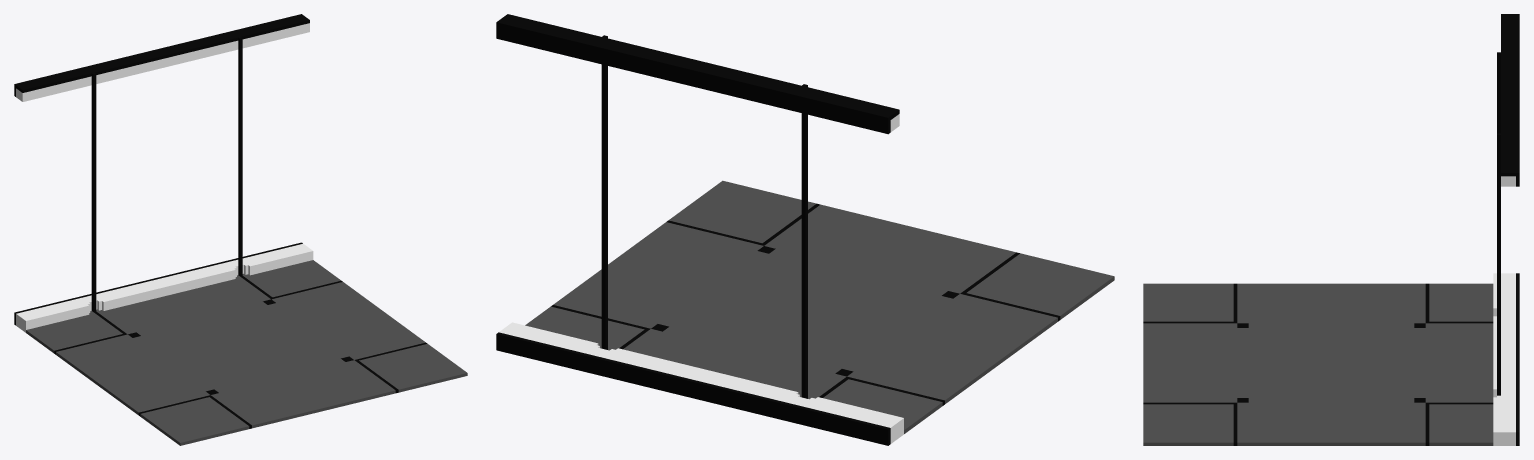
The model's file is Wall Window.obj.
The picture shows the model from 3 angles, left to right: view 1: azimuth 30°, elevation 25°; view 2: azimuth 150°, elevation 25°; view 3: azimuth 270°, elevation 25°; orthographic projection. The views are drawn at different scales.
Bounding box in the file's own units: 10 × 8 × 10.
